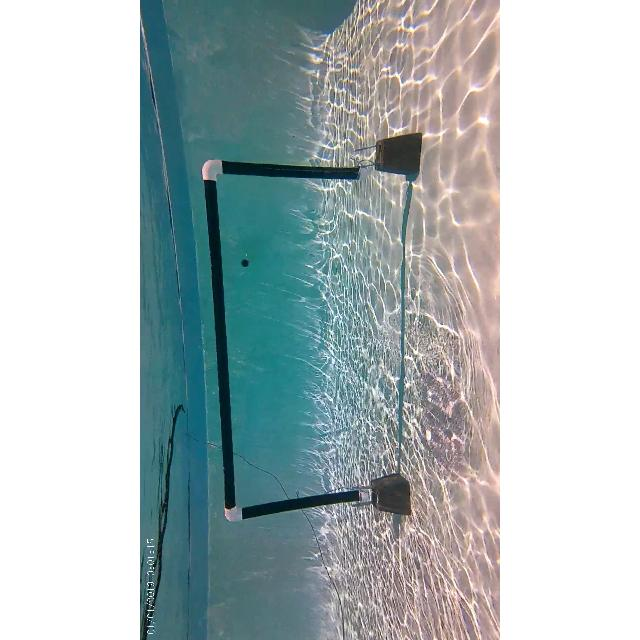prequal gate: (202, 158, 370, 522)
prequal gate leg l: (212, 489, 384, 525)
prequal gate leg r: (200, 153, 370, 191)
